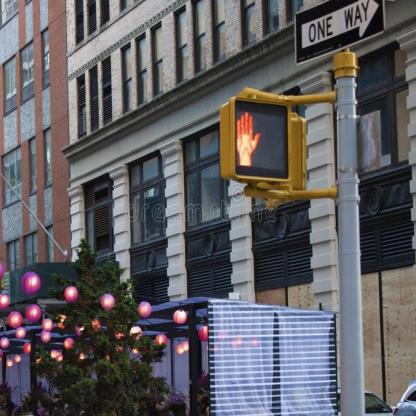Don-t Walk: (225, 98, 302, 181)
